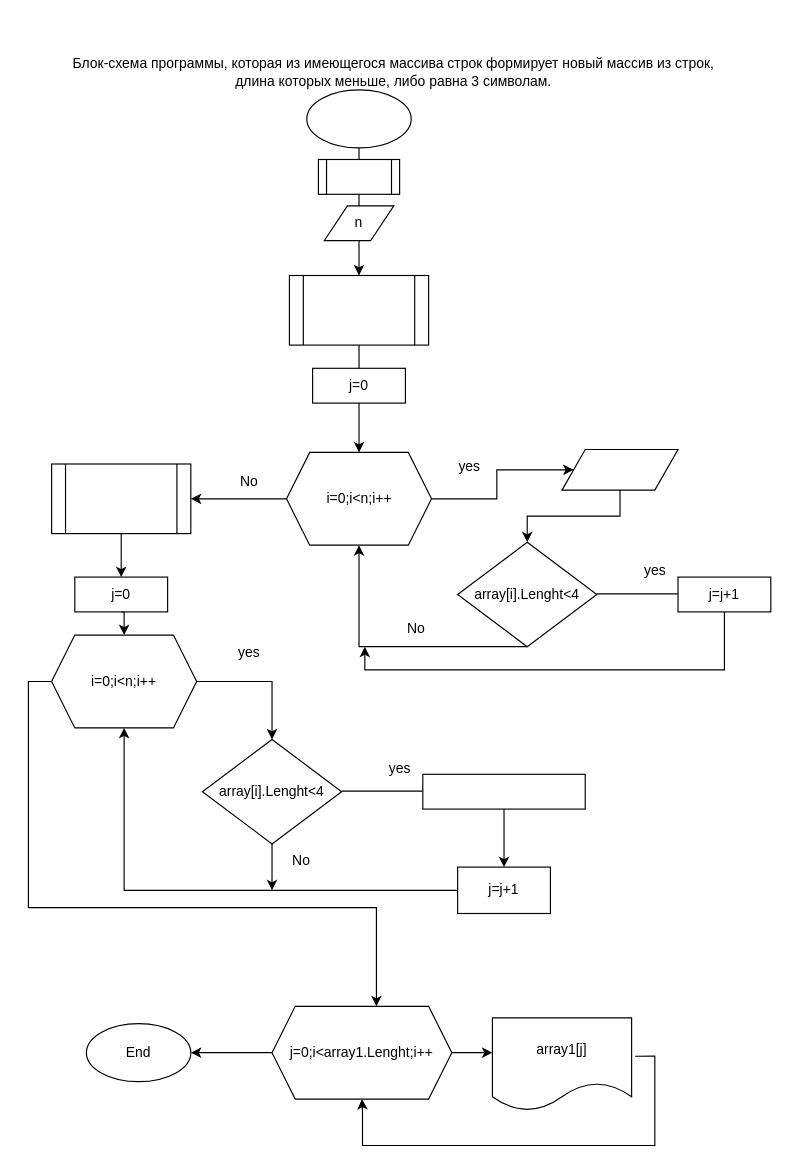
This 791x1175 diagram has some shape labels left out. Here are the shapes that lost their labels. From the top down, the box of each, then its label:
(306, 89, 411, 148): Start
(317, 158, 400, 194): int n
(288, 274, 429, 345): string array[n] int j int i
(561, 448, 678, 490): array[i]
(50, 463, 191, 534): strinf array1[j]
(422, 773, 585, 809): array1[j]=array[i]
